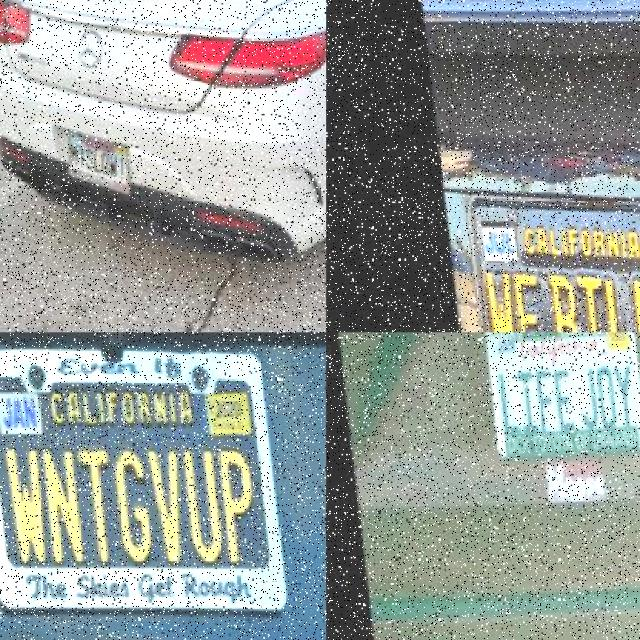licenseplate: (0, 334, 280, 621), (461, 183, 640, 332), (475, 332, 640, 458), (59, 129, 125, 198)
